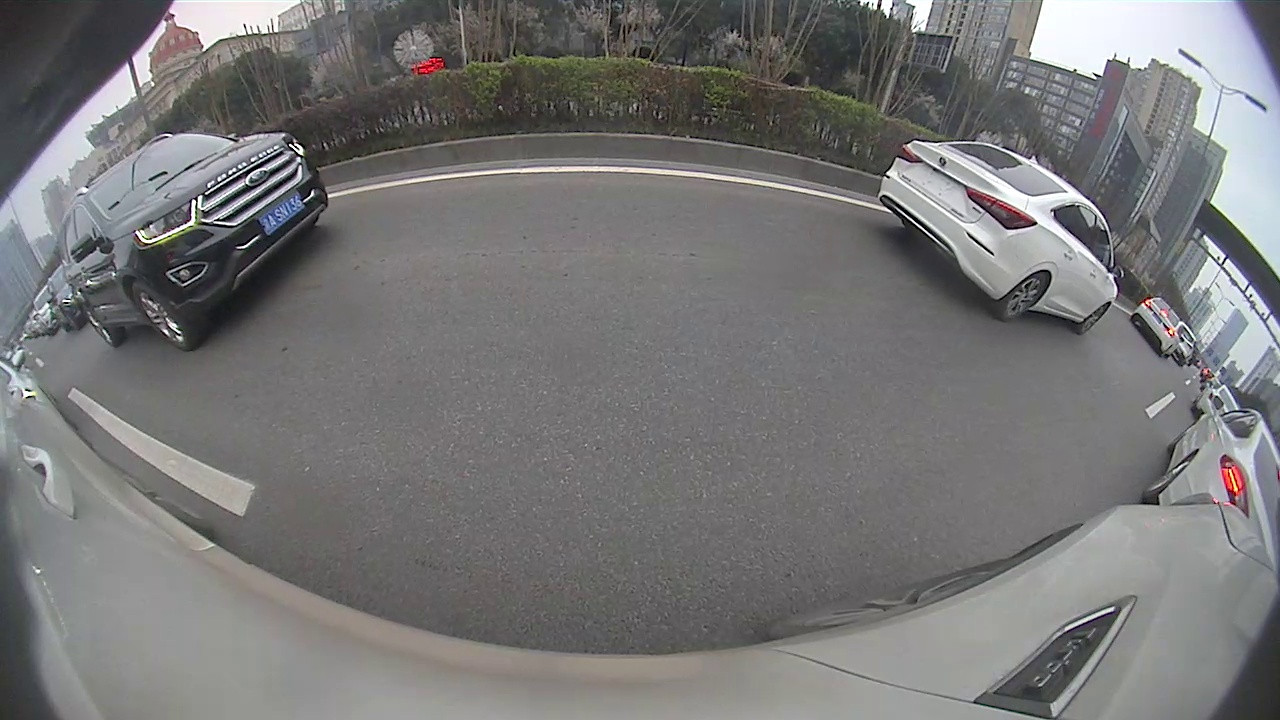car: (53, 132, 328, 349), (876, 139, 1125, 336), (1139, 395, 1279, 576), (1130, 296, 1187, 361)
front: (130, 277, 194, 349), (1076, 305, 1110, 335)
rear: (997, 272, 1051, 322)
